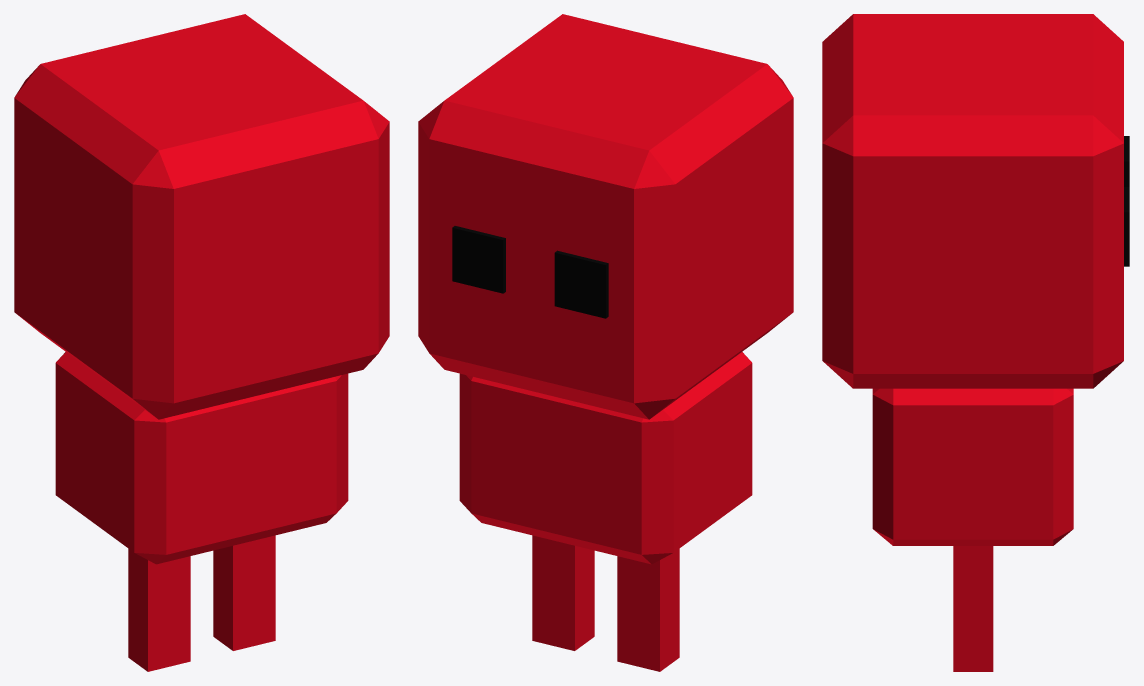
File: MobLongLeg (1).fbx
3 renders of one model, left to right at view 1: azimuth 30°, elevation 25°; view 2: azimuth 150°, elevation 25°; view 3: azimuth 270°, elevation 25°, orthographic.
Visible parts, largest first — view 1: MobLongLeg; view 2: MobLongLeg; view 3: MobLongLeg.
Part boxes in pixels (x1=…): MobLongLeg: x1=14, y1=14, x2=389, y2=671; MobLongLeg: x1=418, y1=14, x2=793, y2=671; MobLongLeg: x1=822, y1=14, x2=1129, y2=671.
Size of the model in its own units: 17.53 by 36.25 by 17.21.
